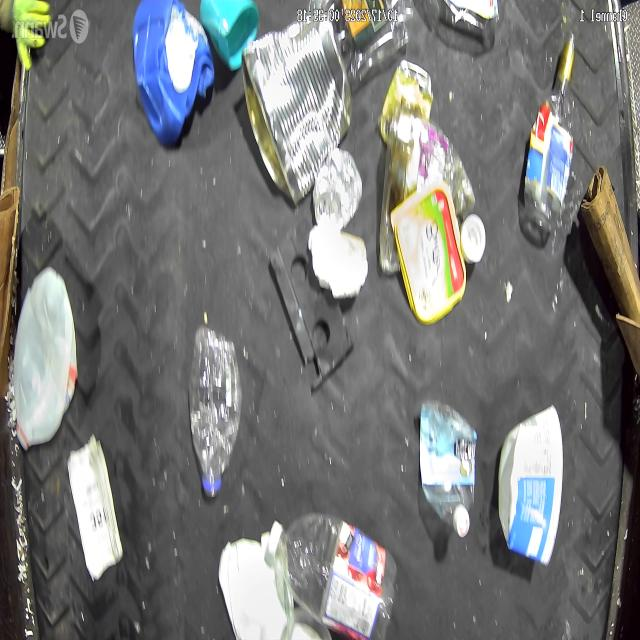can: (379, 60, 433, 140), (312, 147, 362, 230)
milk_jug: (11, 266, 78, 445)
non_white_jug: (133, 2, 215, 146)
plastic_bottle: (269, 512, 394, 640), (524, 32, 575, 232), (188, 327, 243, 498), (419, 398, 476, 538)
